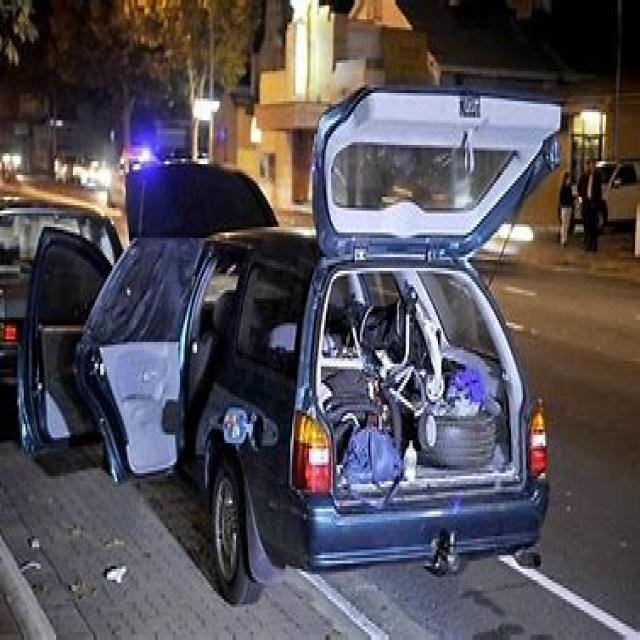Accident: (100, 135, 525, 640)
